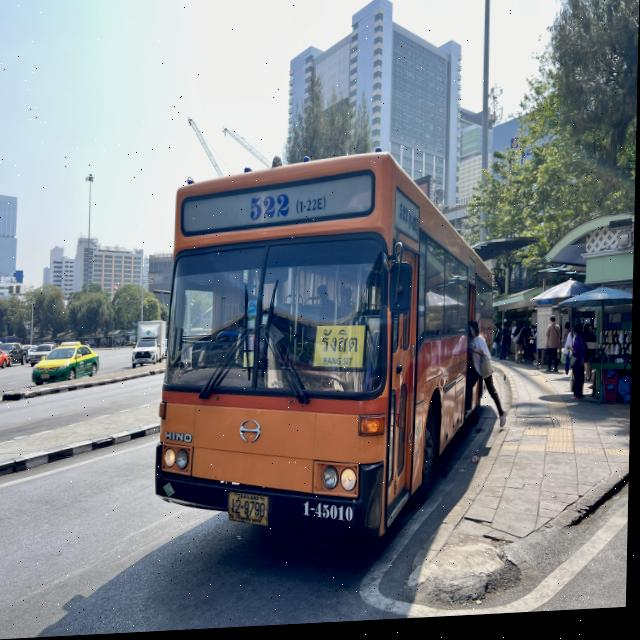BMTA-bus: (155, 153, 496, 554)
Bus-Line-Number: (245, 191, 332, 228)
Destination-Sign-Normal-Expressway: (313, 329, 368, 379)
